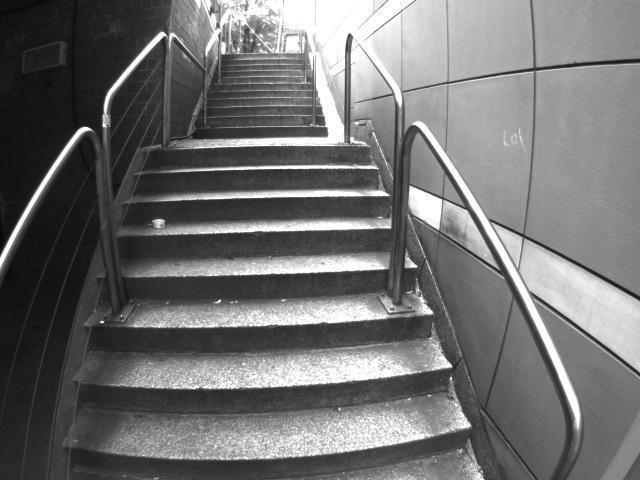Escaleras: (74, 122, 511, 479), (178, 52, 326, 135)
